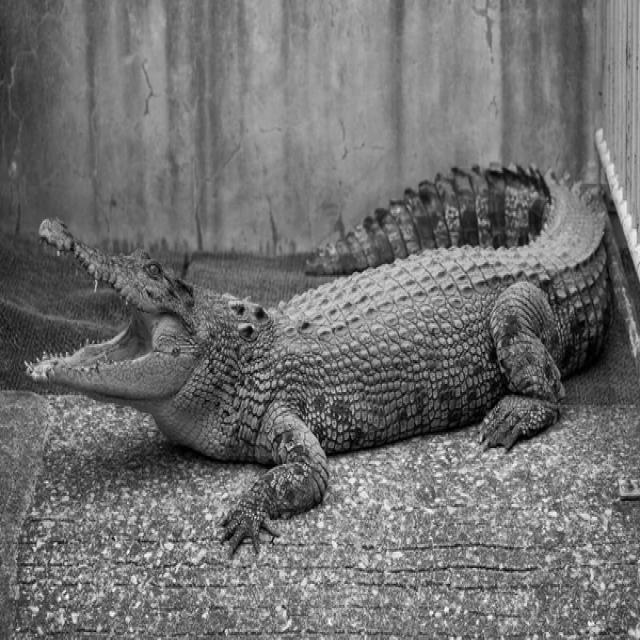Animal: (27, 173, 614, 553)
